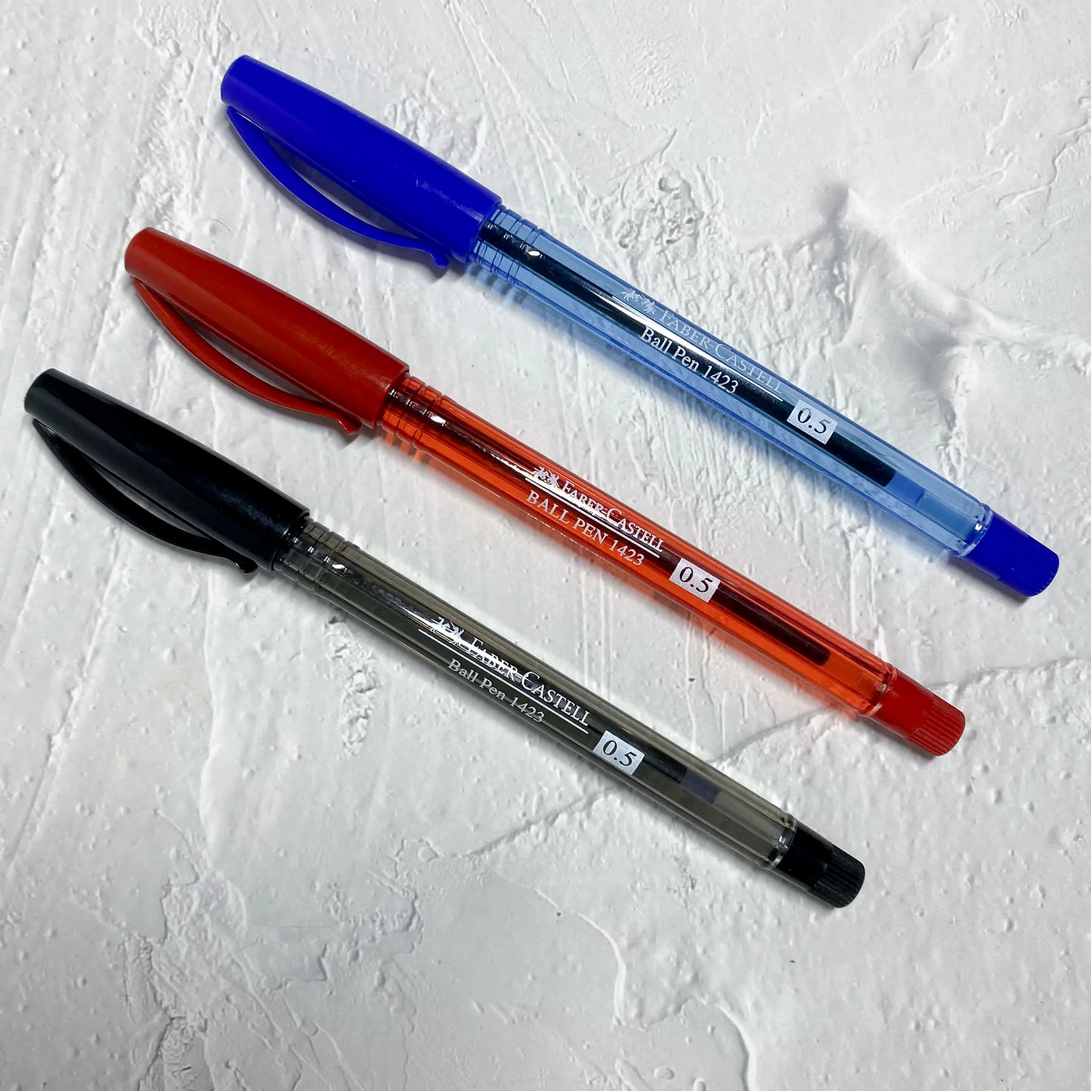toxic_waste: (252, 32, 1091, 163), (57, 339, 1043, 449), (156, 205, 1091, 315), (623, 591, 637, 605)
